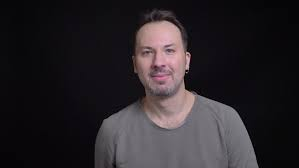white_male: (131, 29, 196, 99)
